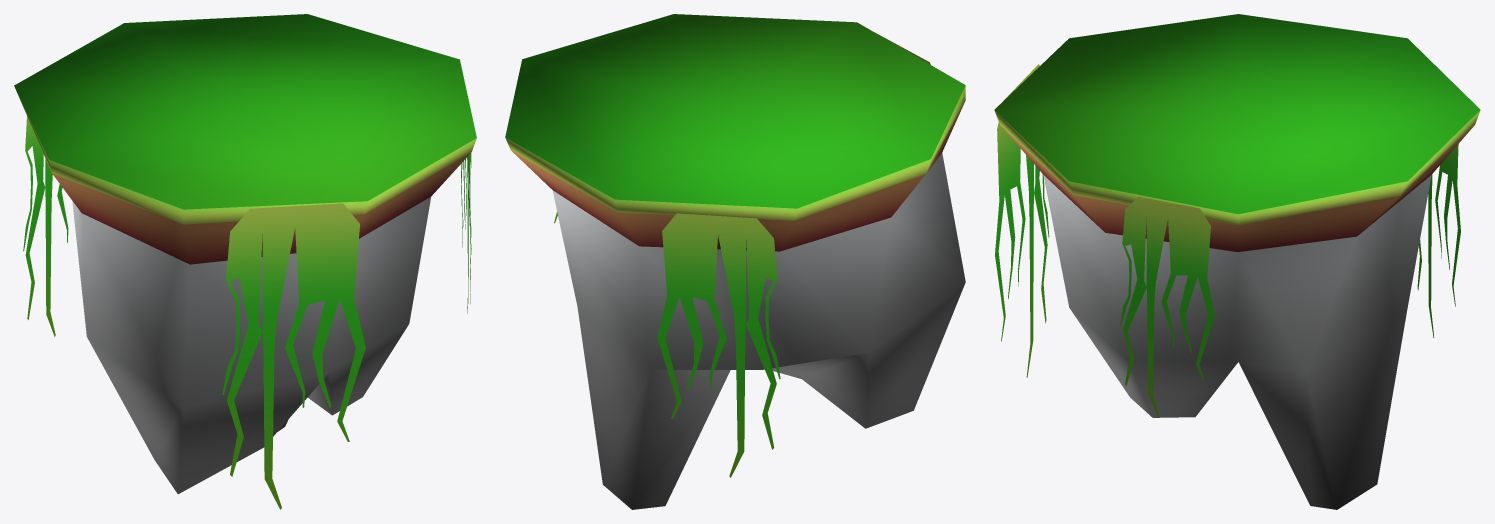
Rendered from W1_PLATFORM_2.fbx.
3 views of the same model, side by side, from view 1: azimuth 30°, elevation 25°; view 2: azimuth 150°, elevation 25°; view 3: azimuth 270°, elevation 25° (orthographic).
Visible parts, largest first — view 1: W1_PLATFORM_2; view 2: W1_PLATFORM_2; view 3: W1_PLATFORM_2.
Part boxes in pixels (x1,y1,x2,y2): W1_PLATFORM_2: (14,14,476,509); W1_PLATFORM_2: (505,14,965,509); W1_PLATFORM_2: (994,14,1480,509).
Bounding box in the file's own units: 933 × 822 × 958.
